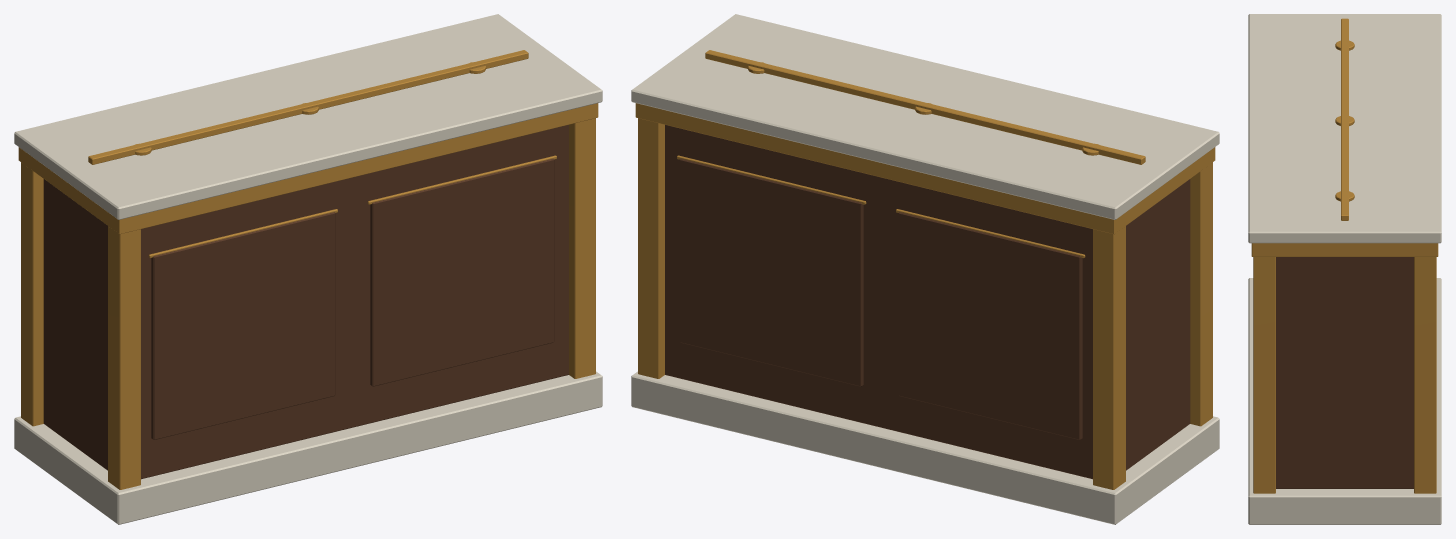
File: prop_of_check_desk.glb
3 views of the same model, side by side, from view 1: azimuth 30°, elevation 25°; view 2: azimuth 150°, elevation 25°; view 3: azimuth 270°, elevation 25° (orthographic). The views are drawn at different scales.
Parts seen in each view (by area): view 1: Desk; view 2: Desk; view 3: Desk.
Boxes of the visible parts, box(x1,y1,x2,y2) form: Desk: box(14, 14, 602, 524); Desk: box(631, 14, 1219, 524); Desk: box(1248, 14, 1441, 524).
Size of what is drawn, in the model's own units: 1.6 by 1.02 by 0.596.
